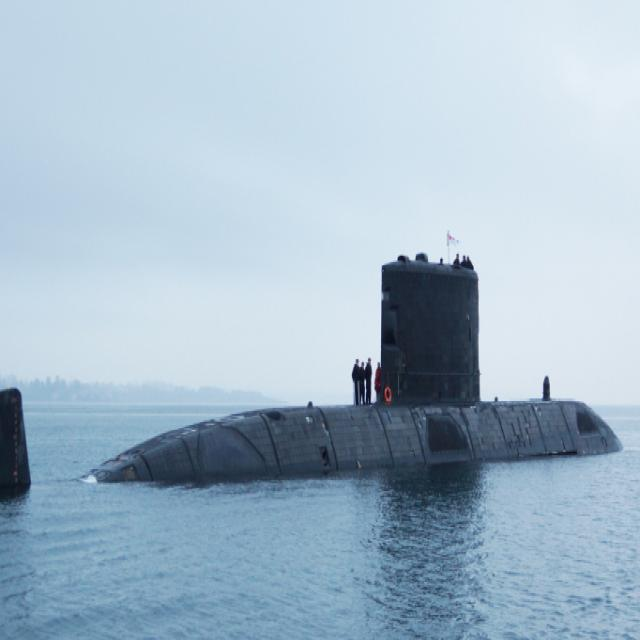submarine: (1, 246, 638, 505)
